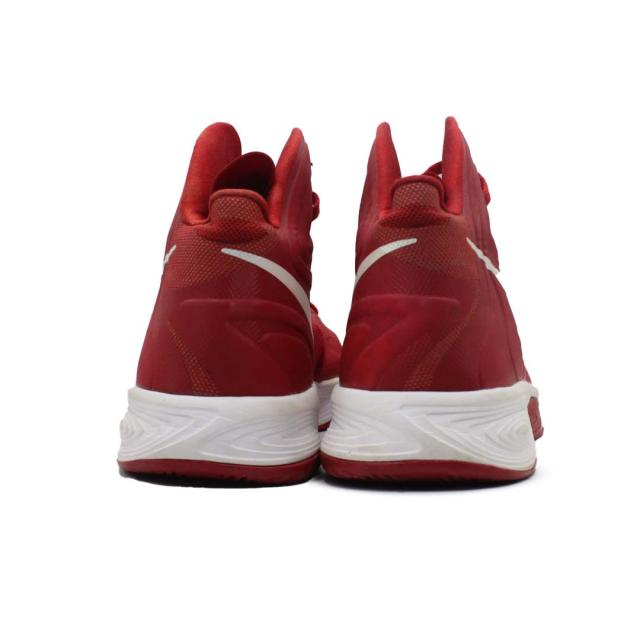heel: (138, 189, 316, 392), (348, 176, 508, 387)
midsole: (121, 378, 334, 487), (319, 382, 535, 479)
